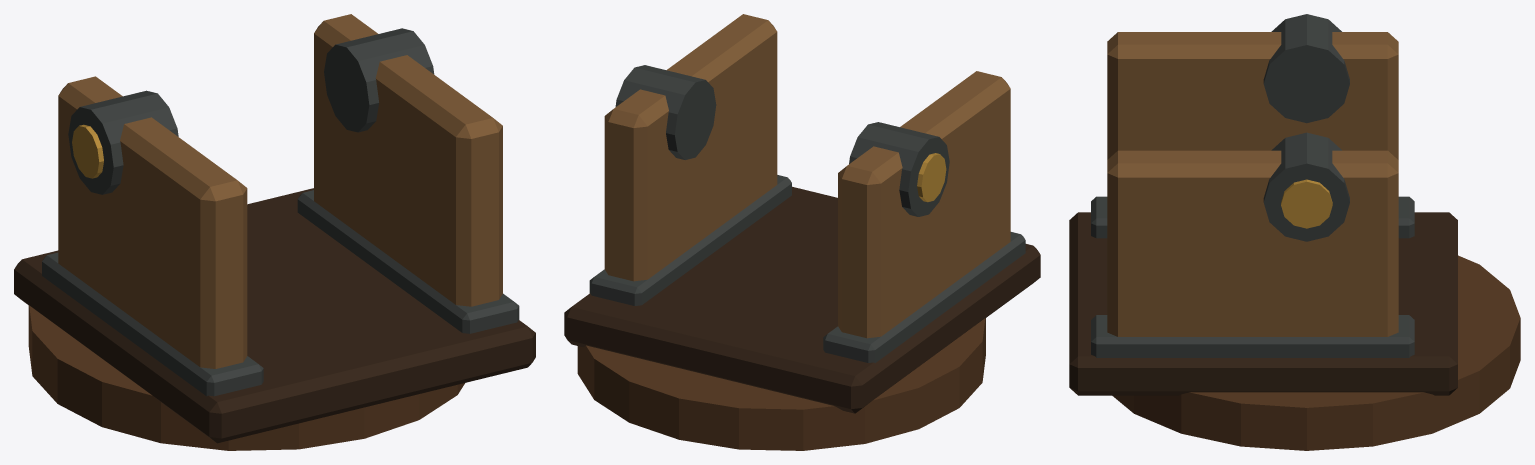
File: mount.glb
3 renders of one model, left to right at view 1: azimuth 30°, elevation 25°; view 2: azimuth 150°, elevation 25°; view 3: azimuth 270°, elevation 25°, orthographic. The views are drawn at different scales.
Parts seen in each view (by area): view 1: Timber, Metal; view 2: Timber, Metal; view 3: Timber, Metal.
Boxes of the visible parts, x1,y1,x2,y2 form: Timber: [14, 14, 535, 450]; Metal: [42, 28, 519, 396]; Timber: [564, 14, 1040, 450]; Metal: [589, 65, 1025, 362]; Timber: [1069, 32, 1520, 450]; Metal: [1091, 14, 1414, 357].
Bounding box in the file's own units: 1.98 × 1.39 × 2.09.
